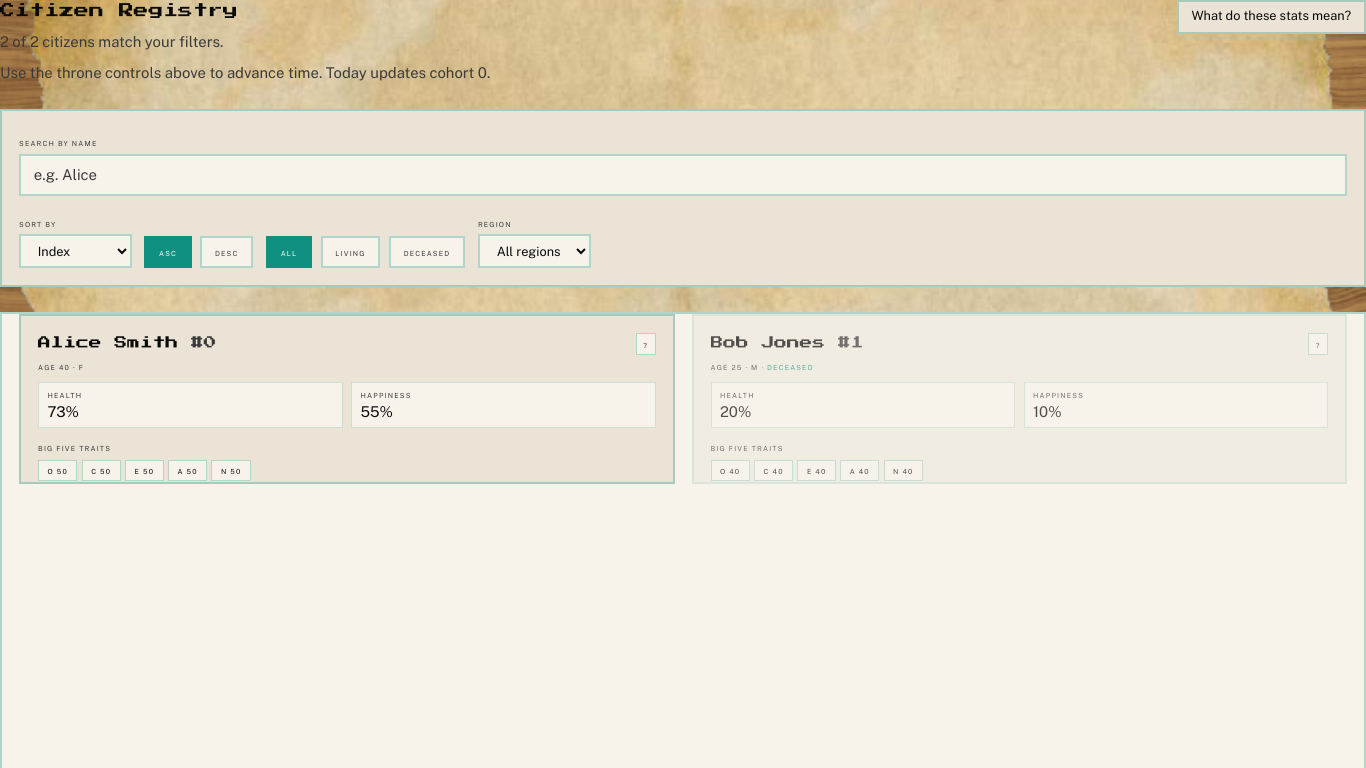
PopulationPage › shows an empty state when nothing matches
Expected: the heading "Alice Smith #0" is shown, [38, 333, 216, 354]
Type "zzzz-no-match" into the search field named "Search citizens by name" at (683, 175), box [19, 154, 1347, 196]
Wait 250 ms
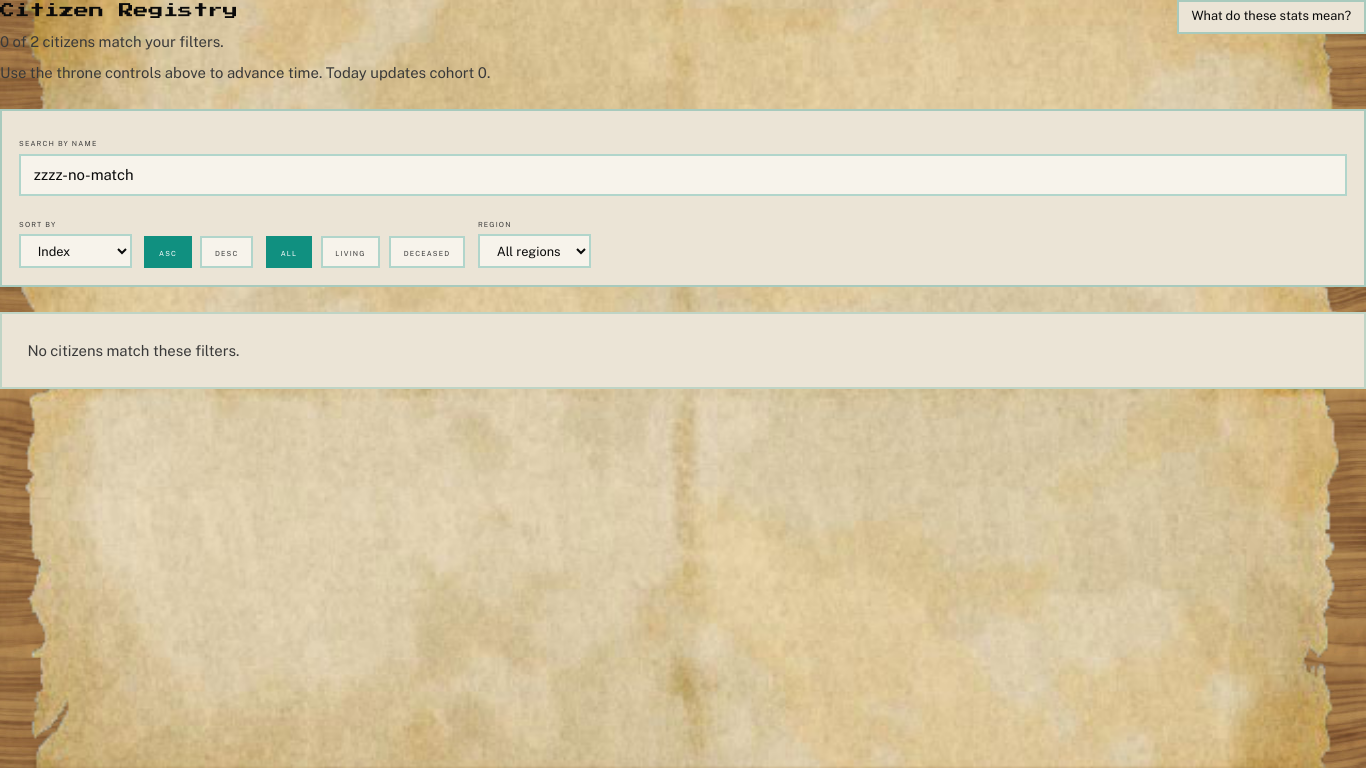
Expected: the text "No citizens match these filters." is shown, [0, 312, 1365, 389]
